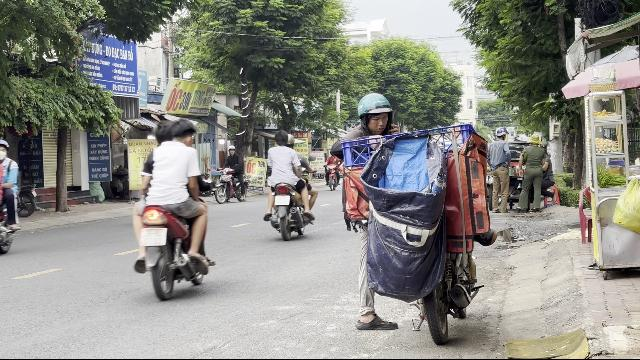licenseplate: (140, 228, 168, 246), (274, 196, 290, 204)
motorcyclist: (129, 116, 213, 300), (261, 129, 317, 239)
nohelmet: (168, 118, 196, 145), (153, 122, 171, 144), (274, 130, 288, 146)
